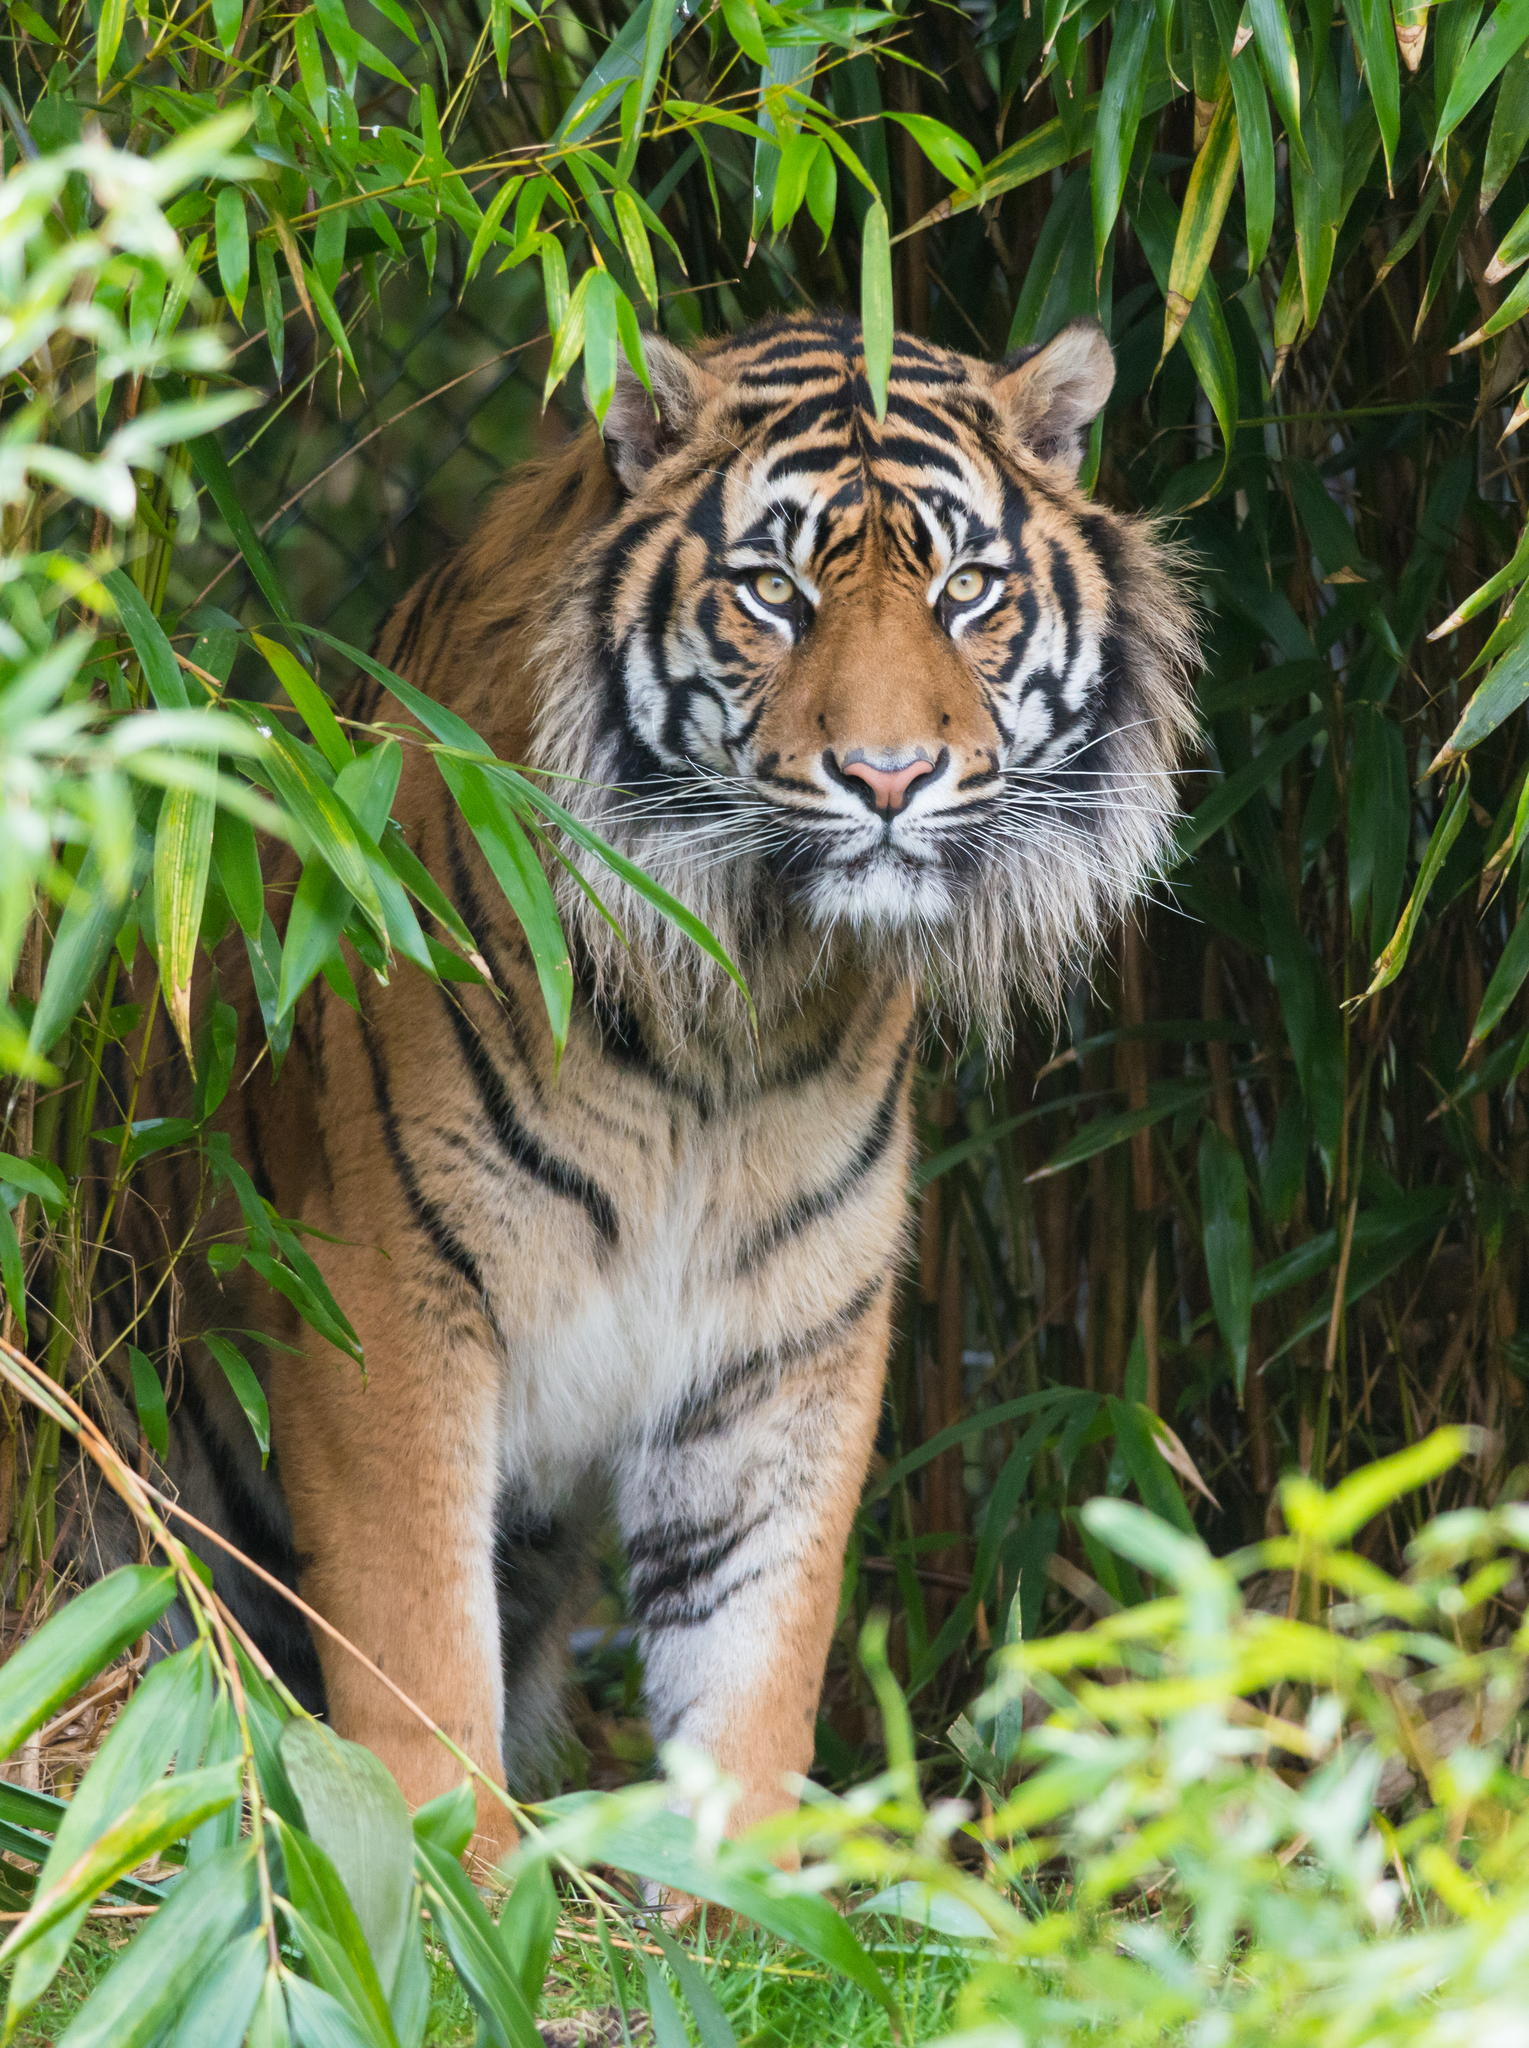tiger: (239, 313, 1169, 1801)
